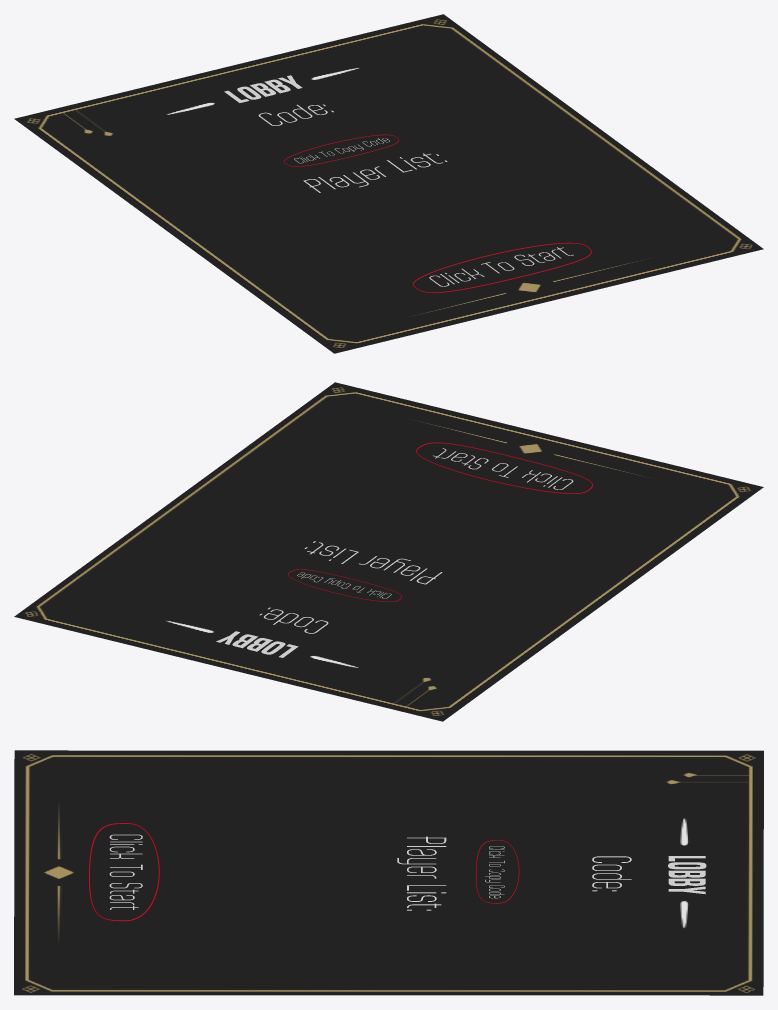
Rendered from Rulebook Lobby Page.fbx.
3 views of the same model, one above another, from view 1: azimuth 30°, elevation 25°; view 2: azimuth 150°, elevation 25°; view 3: azimuth 270°, elevation 25° (orthographic). The views are drawn at different scales.
Parts seen in each view (by area): view 1: RulesPageMultiplayerMenu, Lobby Text; view 2: RulesPageMultiplayerMenu, Lobby Text, Player List Text; view 3: RulesPageMultiplayerMenu, Lobby Text, Player List Text, Click To Start Text, Start Game Button Outlne.
Boxes of the visible parts, left/top/right/bottom form: RulesPageMultiplayerMenu: left=14, top=14, right=763, bottom=353; Lobby Text: left=224, top=75, right=302, bottom=102; RulesPageMultiplayerMenu: left=14, top=382, right=763, bottom=721; Lobby Text: left=216, top=631, right=298, bottom=657; Player List Text: left=304, top=541, right=442, bottom=584; RulesPageMultiplayerMenu: left=14, top=750, right=763, bottom=995; Lobby Text: left=668, top=856, right=706, bottom=894; Player List Text: left=397, top=836, right=446, bottom=910; Click To Start Text: left=109, top=834, right=142, bottom=909; Start Game Button Outlne: left=88, top=823, right=159, bottom=921.
Size of the model in its own units: 22.03 by 0.0507 by 28.49.
3 materials, 1 textured.
